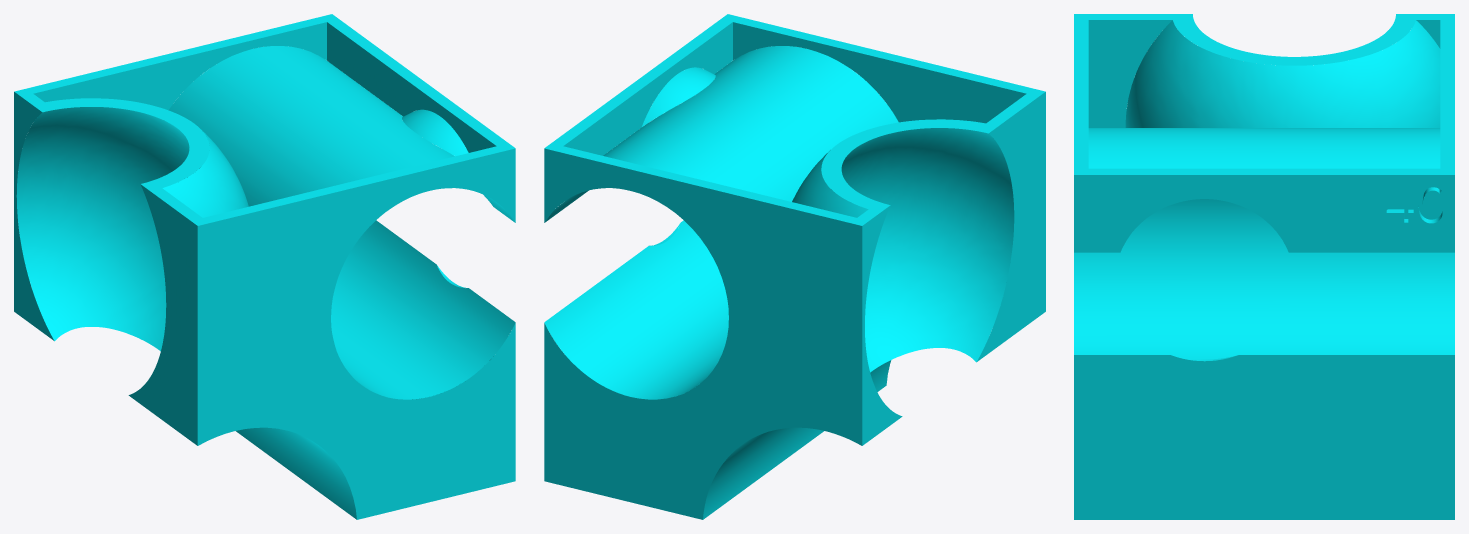
3 views of the same model, side by side, from view 1: azimuth 30°, elevation 25°; view 2: azimuth 150°, elevation 25°; view 3: azimuth 270°, elevation 25° (orthographic). The views are drawn at different scales.
Parts seen in each view (by area): view 1: 70_vars_w-txt; view 2: 70_vars_w-txt; view 3: 70_vars_w-txt.
Boxes of the visible parts, <box> form: 70_vars_w-txt: <box>14,14,515,519</box>; 70_vars_w-txt: <box>544,14,1045,519</box>; 70_vars_w-txt: <box>1074,14,1454,519</box>.
Size of the model in its own units: 0.042 by 0.042 by 0.042.
